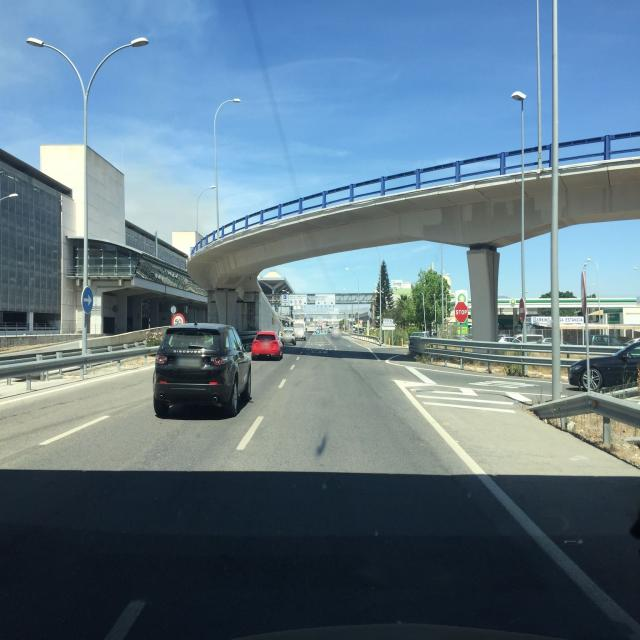car: (153, 321, 252, 418), (567, 337, 640, 392), (251, 330, 284, 360), (279, 326, 297, 346), (294, 322, 308, 342)
